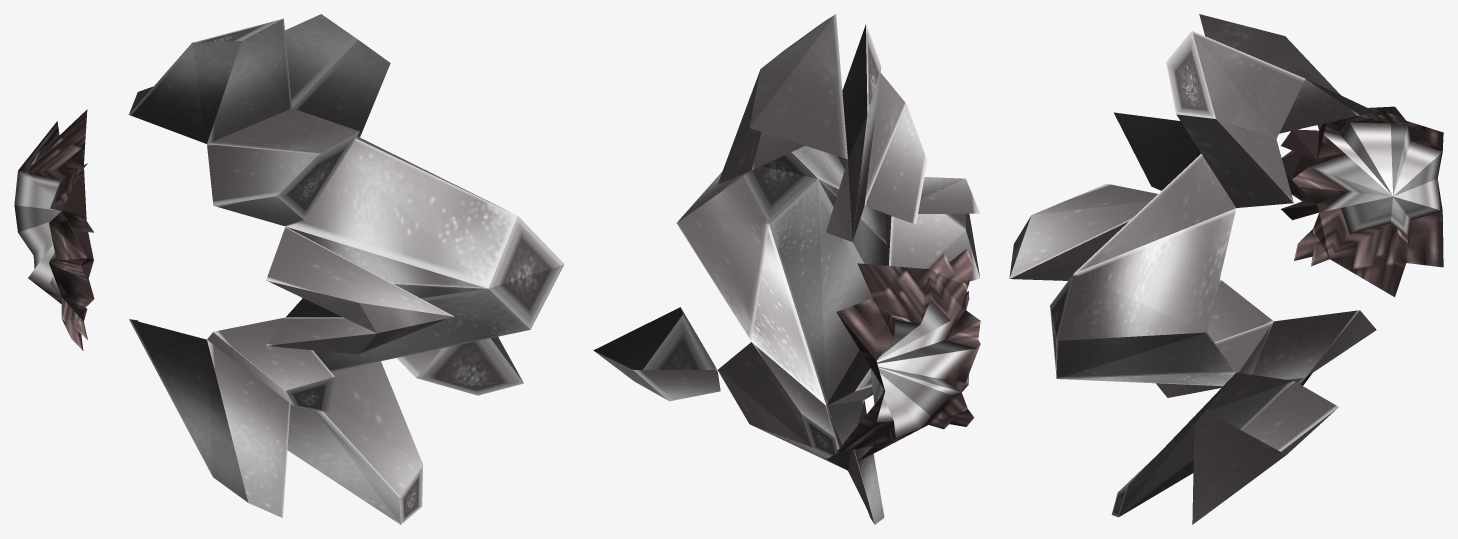
3 views of the same model, side by side, from view 1: azimuth 30°, elevation 25°; view 2: azimuth 150°, elevation 25°; view 3: azimuth 270°, elevation 25° (orthographic). The views are drawn at different scales.
Visible parts, largest first — view 1: B_0057_1b_0; view 2: B_0057_1b_0; view 3: B_0057_1b_0.
Part boxes in pixels (x1=…): B_0057_1b_0: x1=14, y1=14, x2=564, y2=524; B_0057_1b_0: x1=593, y1=14, x2=980, y2=524; B_0057_1b_0: x1=1009, y1=14, x2=1443, y2=524.
Size of the model in its own units: 4.29 by 5.02 by 4.16.
Materials: 1 (1 with a texture image).
